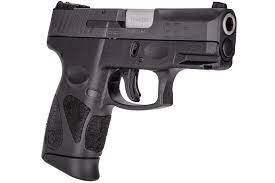gun: (40, 1, 238, 183)
